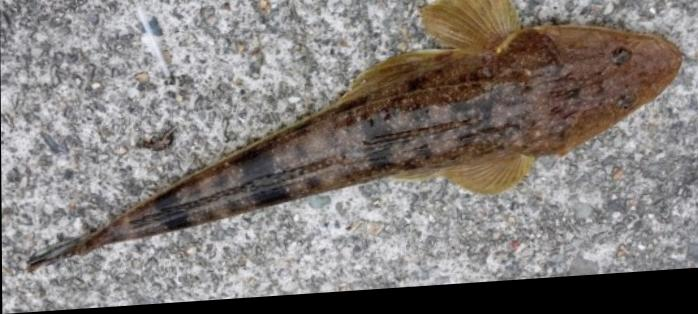fish: (24, 0, 684, 273)
